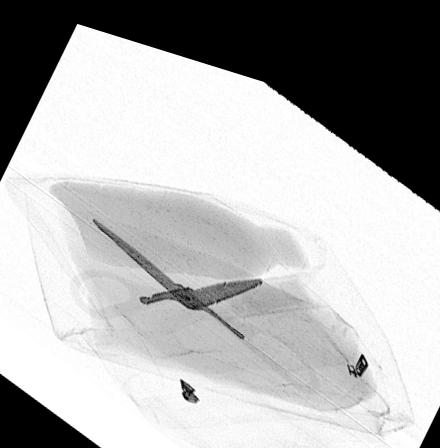Scissors: (66, 208, 321, 378)
